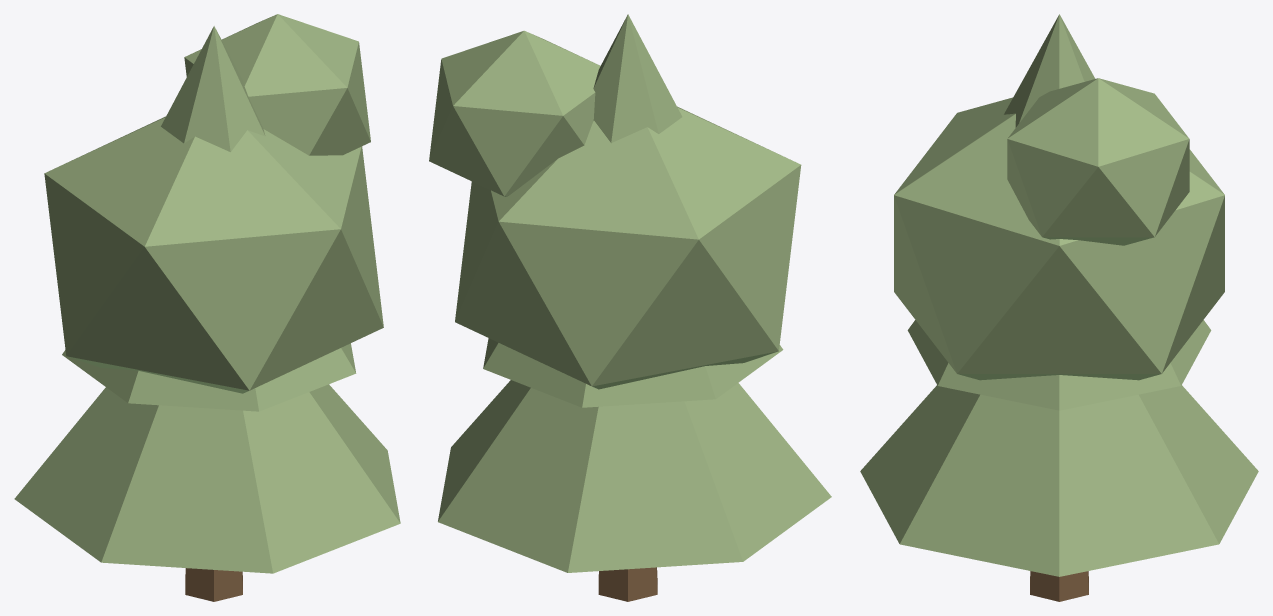
Rendered from props.glb.
3 views of the same model, side by side, from view 1: azimuth 30°, elevation 25°; view 2: azimuth 150°, elevation 25°; view 3: azimuth 270°, elevation 25° (orthographic). The views are drawn at different scales.
Visible parts, largest first — view 1: tree_round, tree_cone; view 2: tree_round, tree_cone; view 3: tree_round, tree_cone.
Boxes of the visible parts, <box> form: tree_round: <box>44,14,383,601</box>; tree_cone: <box>14,26,400,573</box>; tree_round: <box>429,30,801,601</box>; tree_cone: <box>438,14,831,572</box>; tree_round: <box>894,78,1224,601</box>; tree_cone: <box>860,14,1258,576</box>.
Size of the model in its own units: 0.7984 by 1.3 by 0.8189.
Materials: 1 (1 with a texture image).
